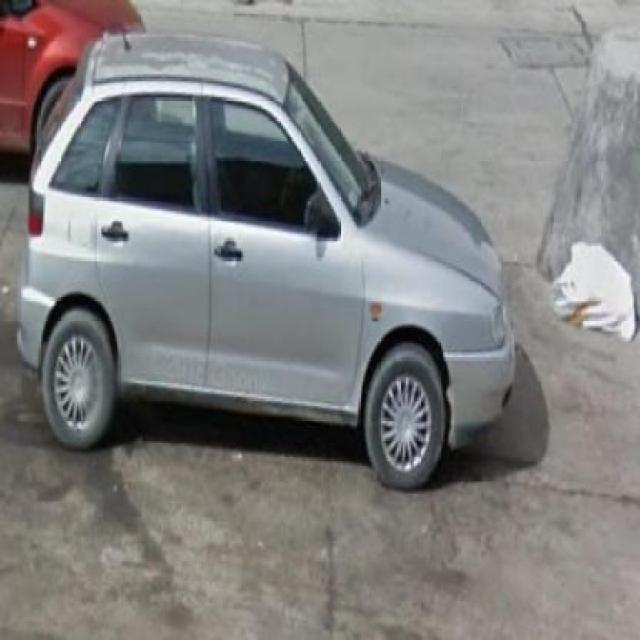car: (24, 50, 518, 488)
